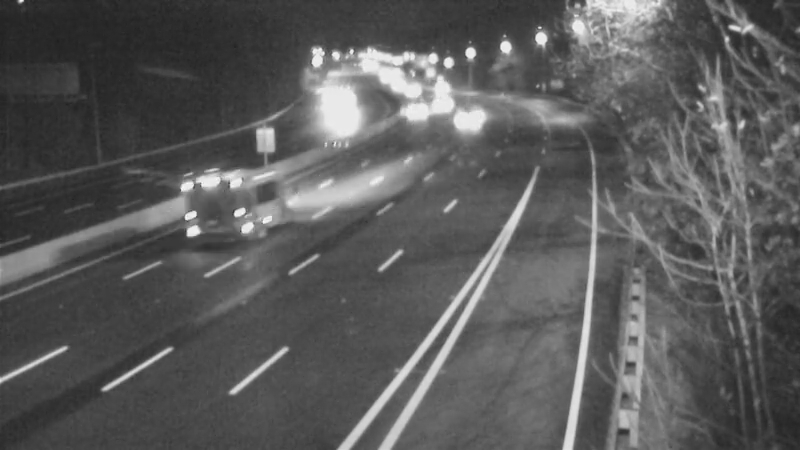vehicle: (193, 164, 273, 244), (388, 68, 438, 118), (415, 77, 465, 127), (417, 61, 467, 111), (443, 90, 493, 140), (388, 87, 438, 137), (317, 100, 367, 150)
